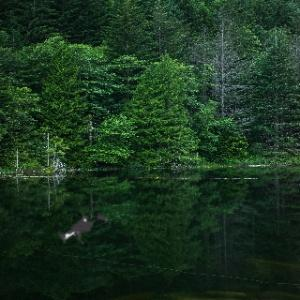drone: (29, 175, 130, 276)
